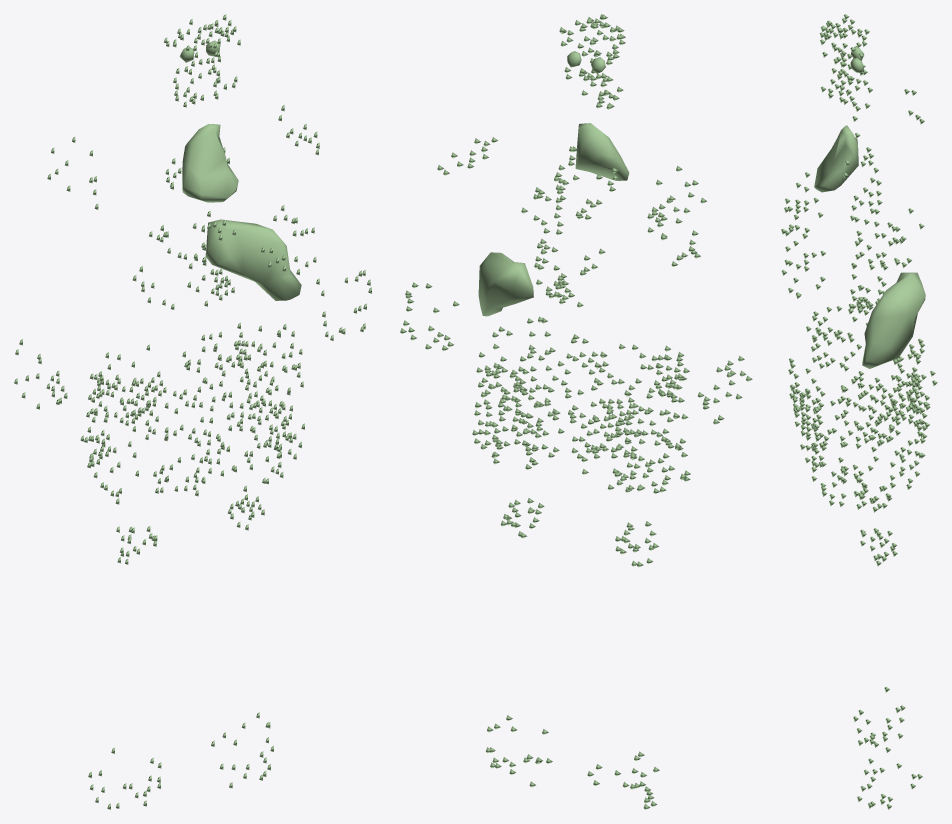
The model's file is pediatric_child_5y_male.lymphatic.LOD3.glb.
3 renders of one model, left to right at view 1: azimuth 30°, elevation 25°; view 2: azimuth 150°, elevation 25°; view 3: azimuth 270°, elevation 25°, orthographic. The views are drawn at different scales.
Parts seen in each view (by area): view 1: PEDIATRIC.CHILD_5Y.MALE.LYMPHATIC.LYMPHATIC_NODES_TRUNK, PEDIATRIC.CHILD_5Y.MALE.LYMPHATIC.SPLEEN, PEDIATRIC.CHILD_5Y.MALE.LYMPHATIC.THYMUS, PEDIATRIC.CHILD_5Y.MALE.LYMPHATIC.LYMPHATIC_NODES_ET, PEDIATRIC.CHILD_5Y.MALE.LYMPHATIC.LYMPHATIC_NODES_THORACIC, PEDIATRIC.CHILD_5Y.MALE.LYMPHATIC.LYMPHATIC_NODES_LEGS, PEDIATRIC.CHILD_5Y.MALE.LYMPHATIC.LYMPHATIC_NODES_ARMS; view 2: PEDIATRIC.CHILD_5Y.MALE.LYMPHATIC.LYMPHATIC_NODES_TRUNK, PEDIATRIC.CHILD_5Y.MALE.LYMPHATIC.SPLEEN, PEDIATRIC.CHILD_5Y.MALE.LYMPHATIC.THYMUS, PEDIATRIC.CHILD_5Y.MALE.LYMPHATIC.LYMPHATIC_NODES_THORACIC, PEDIATRIC.CHILD_5Y.MALE.LYMPHATIC.LYMPHATIC_NODES_ET, PEDIATRIC.CHILD_5Y.MALE.LYMPHATIC.LYMPHATIC_NODES_ARMS, PEDIATRIC.CHILD_5Y.MALE.LYMPHATIC.LYMPHATIC_NODES_LEGS; view 3: PEDIATRIC.CHILD_5Y.MALE.LYMPHATIC.LYMPHATIC_NODES_TRUNK, PEDIATRIC.CHILD_5Y.MALE.LYMPHATIC.SPLEEN, PEDIATRIC.CHILD_5Y.MALE.LYMPHATIC.THYMUS, PEDIATRIC.CHILD_5Y.MALE.LYMPHATIC.LYMPHATIC_NODES_ET, PEDIATRIC.CHILD_5Y.MALE.LYMPHATIC.LYMPHATIC_NODES_THORACIC, PEDIATRIC.CHILD_5Y.MALE.LYMPHATIC.LYMPHATIC_NODES_LEGS, PEDIATRIC.CHILD_5Y.MALE.LYMPHATIC.LYMPHATIC_NODES_ARMS, PEDIATRIC.CHILD_5Y.MALE.LYMPHATIC.LYMPHATIC_NODES_HEAD.
Boxes of the visible parts, x1,y1,x2,y2 form: PEDIATRIC.CHILD_5Y.MALE.LYMPHATIC.LYMPHATIC_NODES_TRUNK: (47, 105, 319, 564); PEDIATRIC.CHILD_5Y.MALE.LYMPHATIC.SPLEEN: (205, 219, 301, 300); PEDIATRIC.CHILD_5Y.MALE.LYMPHATIC.THYMUS: (182, 124, 238, 202); PEDIATRIC.CHILD_5Y.MALE.LYMPHATIC.LYMPHATIC_NODES_ET: (164, 14, 240, 87); PEDIATRIC.CHILD_5Y.MALE.LYMPHATIC.LYMPHATIC_NODES_THORACIC: (149, 147, 235, 306); PEDIATRIC.CHILD_5Y.MALE.LYMPHATIC.LYMPHATIC_NODES_LEGS: (88, 712, 273, 809); PEDIATRIC.CHILD_5Y.MALE.LYMPHATIC.LYMPHATIC_NODES_ARMS: (14, 270, 371, 409); PEDIATRIC.CHILD_5Y.MALE.LYMPHATIC.LYMPHATIC_NODES_TRUNK: (437, 137, 706, 567); PEDIATRIC.CHILD_5Y.MALE.LYMPHATIC.SPLEEN: (478, 252, 533, 316); PEDIATRIC.CHILD_5Y.MALE.LYMPHATIC.THYMUS: (575, 123, 629, 180); PEDIATRIC.CHILD_5Y.MALE.LYMPHATIC.LYMPHATIC_NODES_THORACIC: (534, 146, 619, 307); PEDIATRIC.CHILD_5Y.MALE.LYMPHATIC.LYMPHATIC_NODES_ET: (559, 14, 625, 86); PEDIATRIC.CHILD_5Y.MALE.LYMPHATIC.LYMPHATIC_NODES_ARMS: (400, 282, 752, 424); PEDIATRIC.CHILD_5Y.MALE.LYMPHATIC.LYMPHATIC_NODES_LEGS: (486, 715, 659, 809); PEDIATRIC.CHILD_5Y.MALE.LYMPHATIC.LYMPHATIC_NODES_TRUNK: (781, 87, 937, 566); PEDIATRIC.CHILD_5Y.MALE.LYMPHATIC.SPLEEN: (862, 272, 925, 368); PEDIATRIC.CHILD_5Y.MALE.LYMPHATIC.THYMUS: (814, 125, 858, 192); PEDIATRIC.CHILD_5Y.MALE.LYMPHATIC.LYMPHATIC_NODES_ET: (819, 14, 869, 91); PEDIATRIC.CHILD_5Y.MALE.LYMPHATIC.LYMPHATIC_NODES_THORACIC: (843, 147, 911, 313); PEDIATRIC.CHILD_5Y.MALE.LYMPHATIC.LYMPHATIC_NODES_LEGS: (853, 686, 922, 809); PEDIATRIC.CHILD_5Y.MALE.LYMPHATIC.LYMPHATIC_NODES_ARMS: (850, 240, 899, 452); PEDIATRIC.CHILD_5Y.MALE.LYMPHATIC.LYMPHATIC_NODES_HEAD: (821, 64, 868, 104).
Size of the model in its own units: 0.3367 by 0.7274 by 0.1354.
